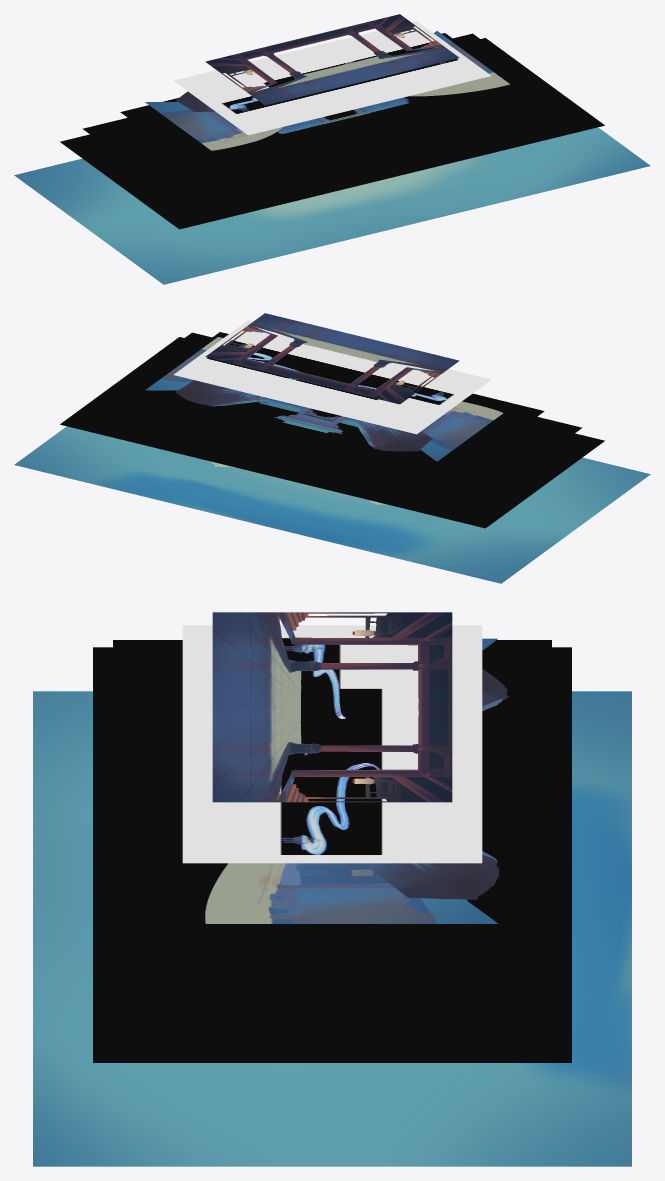
The picture shows the model from 3 angles, top to bottom: view 1: azimuth 30°, elevation 25°; view 2: azimuth 150°, elevation 25°; view 3: azimuth 270°, elevation 25°; orthographic projection. The views are drawn at different scales.
Visible parts, largest first — view 1: Background; view 2: Background; view 3: Background.
Boxes of the visible parts, x1,y1,x2,y2 form: Background: (14, 14, 650, 284); Background: (14, 313, 650, 583); Background: (33, 612, 631, 1166).
Size of the model in its own units: 6627 by 1440 by 3528.
8 materials, 8 textured.
